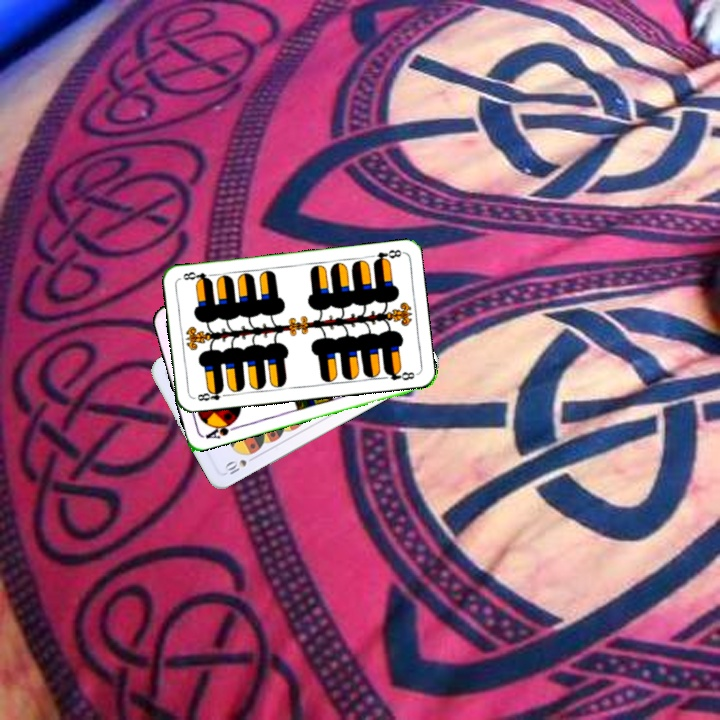E8: (191, 384, 231, 404), (369, 245, 405, 266)
S10: (221, 452, 259, 477)
SA: (201, 416, 240, 441)
